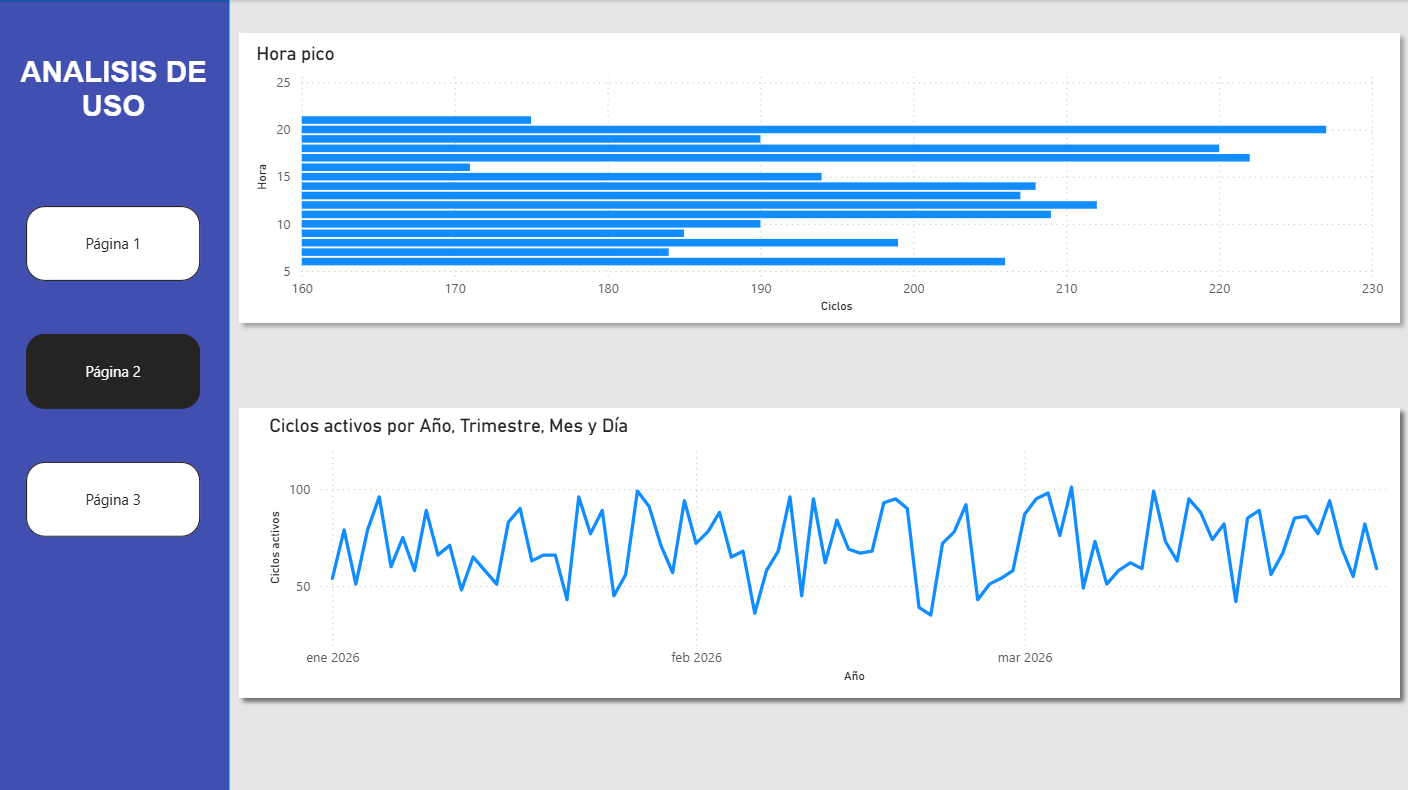

What the dashboard file says about the page in this screenshot:
{"tool":"powerbi","page":{"name":"Página 2","canvas":[1280,720],"ordinal":1},"visuals":[{"type":"shape","box":[0,0,1280.5,720],"z":0},{"type":"shape","box":[209.7,360.6,1070.8,280.9],"z":1000},{"type":"shape","box":[209.7,360.6,1070.8,280.9],"z":2000},{"type":"shape","box":[209.7,20.9,1070.8,280.9],"z":3000},{"type":"barChart","title":"Hora pico","fields":{"Y":["public usage_cycles.Total Ciclos"],"Category":["public usage_cycles.Hora"]},"box":[229.4,38,1031.6,250.2],"z":4000},{"type":"lineChart","fields":{"Y":["Sum(public hourly_usage_p.active_cycles)"],"Category":["public hourly_usage_p.hour.Variación.Jerarquía de fechas.Año","public hourly_usage_p.hour.Variación.Jerarquía de fechas.Trimestre","public hourly_usage_p.hour.Variación.Jerarquía de fechas.Mes","public hourly_usage_p.hour.Variación.Jerarquía de fechas.Día"]},"box":[241.6,375.3,1038.9,247.8],"z":5000},{"type":"shape","box":[0,0,209.7,720],"z":6000},{"type":"pageNavigator","box":[25.8,186.4,158.2,300.5],"z":7000},{"type":"textbox","box":[0,45.4,209.7,77.3],"z":8000}]}

Visuals, with their boxes on the page's 1280x720 design canvas (x1, y1, x2, y2). These are canvas units, not pixel positions in the 1408x790 screenshot, which may show the page scaled, cropped or inside an application window:
shape: crop(0, 0, 1280, 720)
shape: crop(210, 361, 1280, 642)
shape: crop(210, 361, 1280, 642)
shape: crop(210, 21, 1280, 302)
"Hora pico" barChart: crop(229, 38, 1261, 288)
lineChart - Sum(public hourly_usage_p.active_cycles) x public hourly_usage_p.hour.Variación.Jerarquía de fechas.Año: crop(242, 375, 1280, 623)
shape: crop(0, 0, 210, 720)
pageNavigator: crop(26, 186, 184, 487)
textbox: crop(0, 45, 210, 123)
